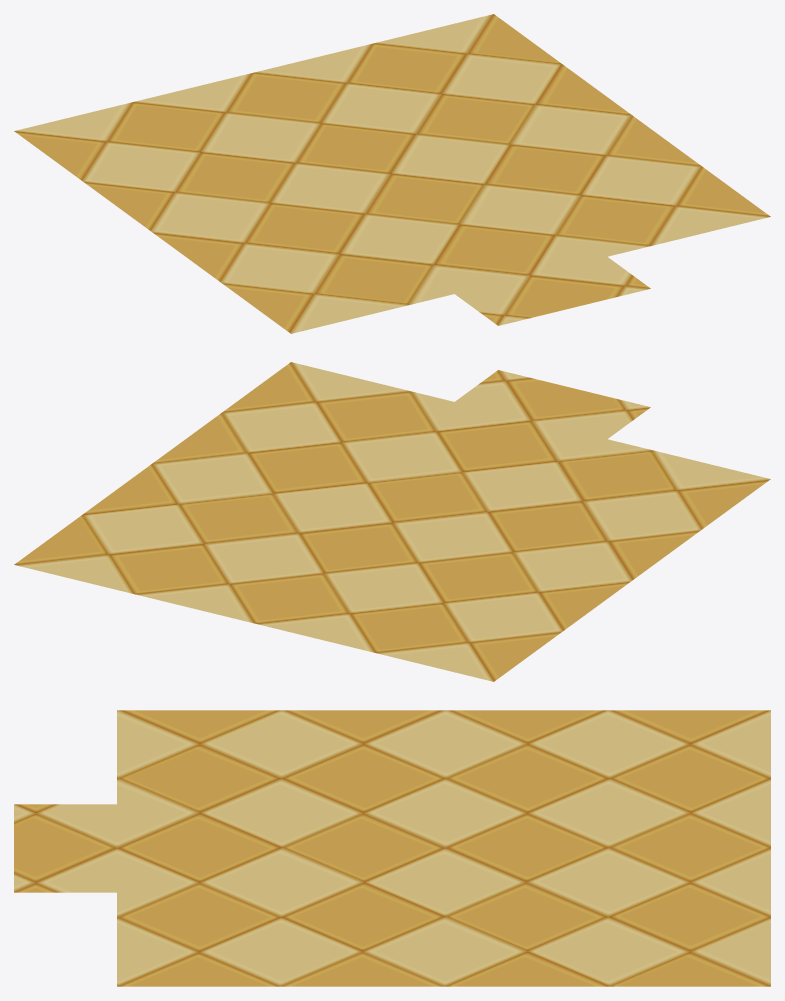
The model's file is Floor01_c02.FBX.
The picture shows the model from 3 angles, top to bottom: view 1: azimuth 30°, elevation 25°; view 2: azimuth 150°, elevation 25°; view 3: azimuth 270°, elevation 25°; orthographic projection. The views are drawn at different scales.
Parts seen in each view (by area): view 1: Floor01_c02; view 2: Floor01_c02; view 3: Floor01_c02.
Boxes of the visible parts, x1,y1,x2,y2 form: Floor01_c02: [14, 14, 770, 333]; Floor01_c02: [14, 362, 770, 681]; Floor01_c02: [14, 710, 770, 986].
Size of the model in its own units: 600 by 0.000218 by 695.
1 material, 1 textured.
